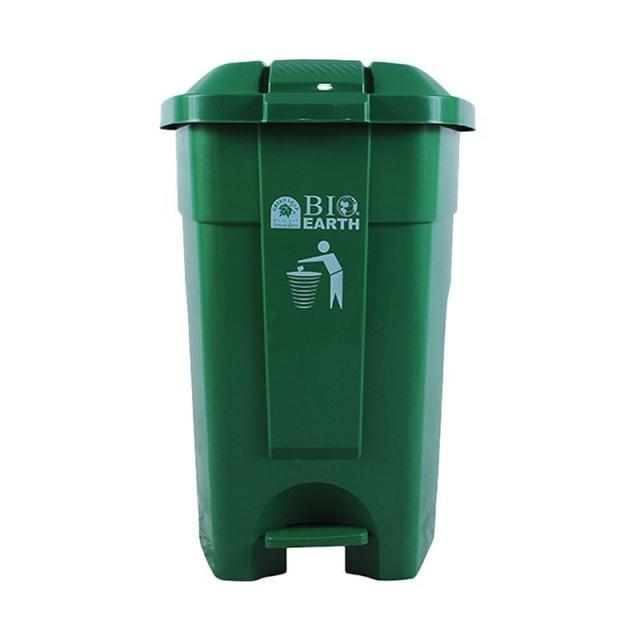Dumpster: (164, 52, 474, 582)
